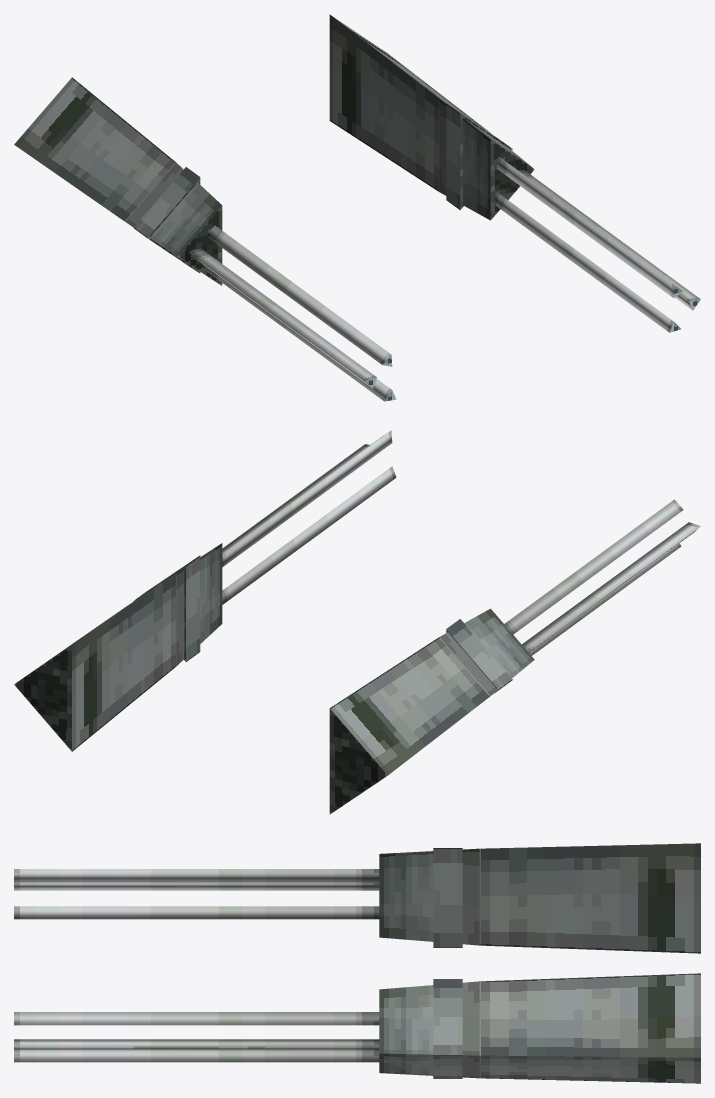
File: bwing_weapon1_s04_l2.fbx
The picture shows the model from 3 angles, top to bottom: view 1: azimuth 30°, elevation 25°; view 2: azimuth 150°, elevation 25°; view 3: azimuth 270°, elevation 25°; orthographic projection. The views are drawn at different scales.
Visible parts, largest first — view 1: mesh_node; view 2: mesh_node; view 3: mesh_node.
Boxes of the visible parts, <box> form: mesh_node: <box>14,14,700,401</box>; mesh_node: <box>14,430,700,814</box>; mesh_node: <box>14,843,700,1083</box>.
Size of the model in its own units: 0.9021 by 0.2457 by 1.39.
Materials: 1 (1 with a texture image).
